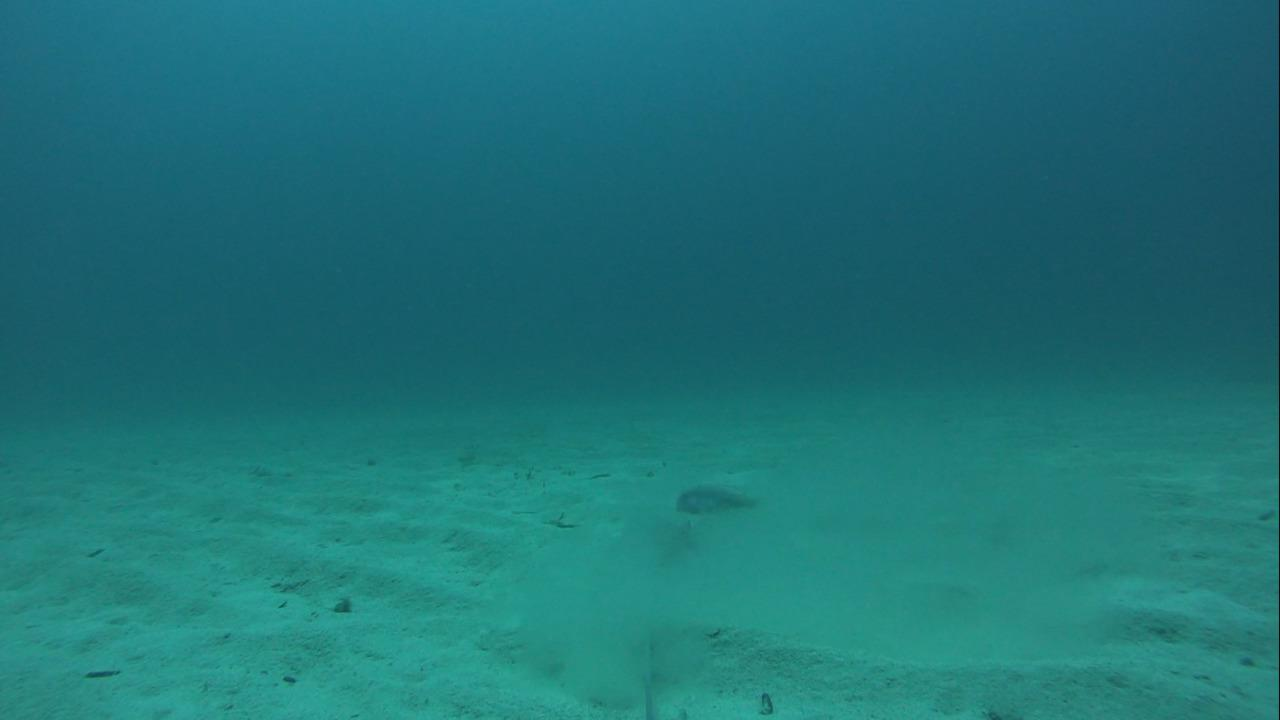raor: (672, 477, 762, 518)
